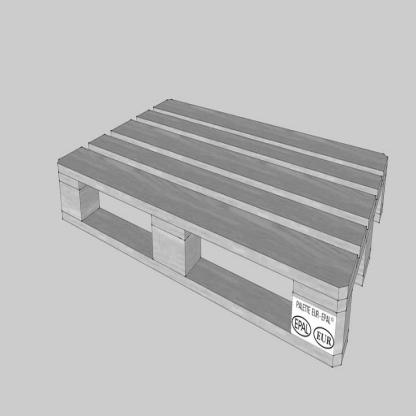BoxFace: (56, 98, 390, 373)
